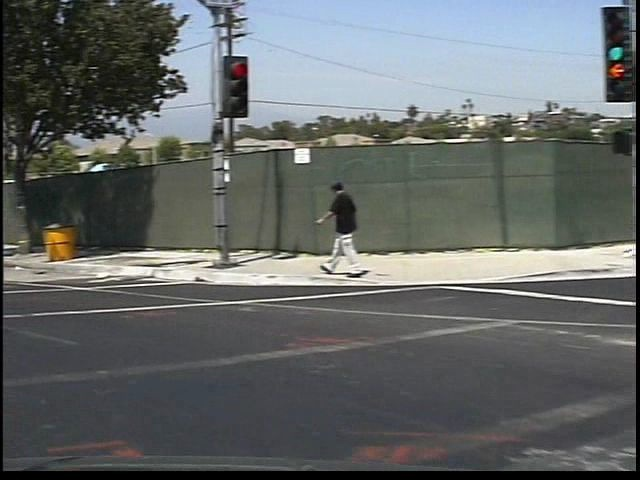person: (307, 166, 356, 286)
